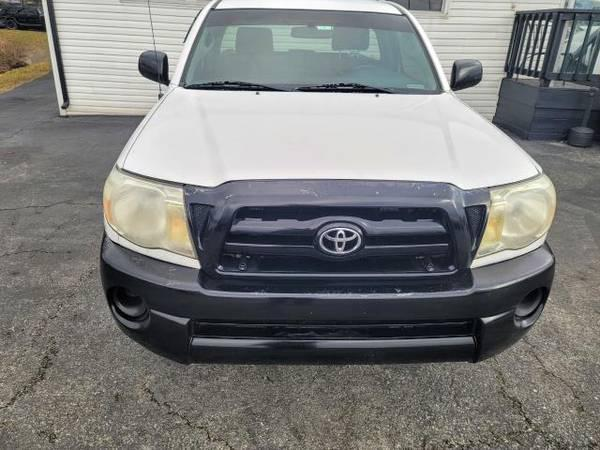Front_Bumper: (98, 234, 556, 361)
Front_Windshield: (176, 11, 437, 95)
Grille: (182, 180, 489, 279)
Hood: (115, 89, 541, 193)
Left_Headlight: (472, 172, 556, 266)
Left_Mirror: (451, 57, 487, 89)
Right_Headlight: (101, 162, 199, 262)
Right_Mirror: (139, 49, 171, 84)
Roof: (165, 3, 447, 93)
